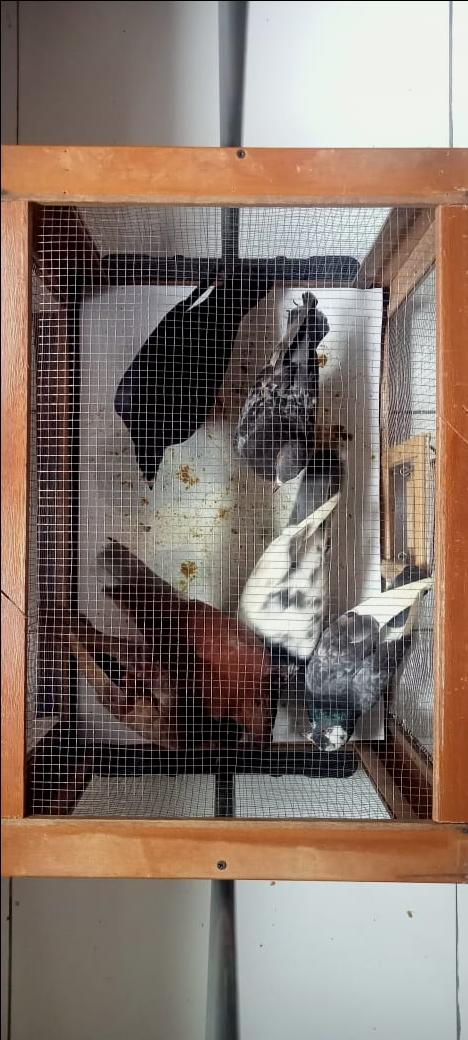Merpati: (97, 542, 277, 745), (112, 268, 271, 491), (44, 606, 242, 752), (234, 452, 345, 692), (301, 566, 432, 752), (231, 293, 329, 494)
